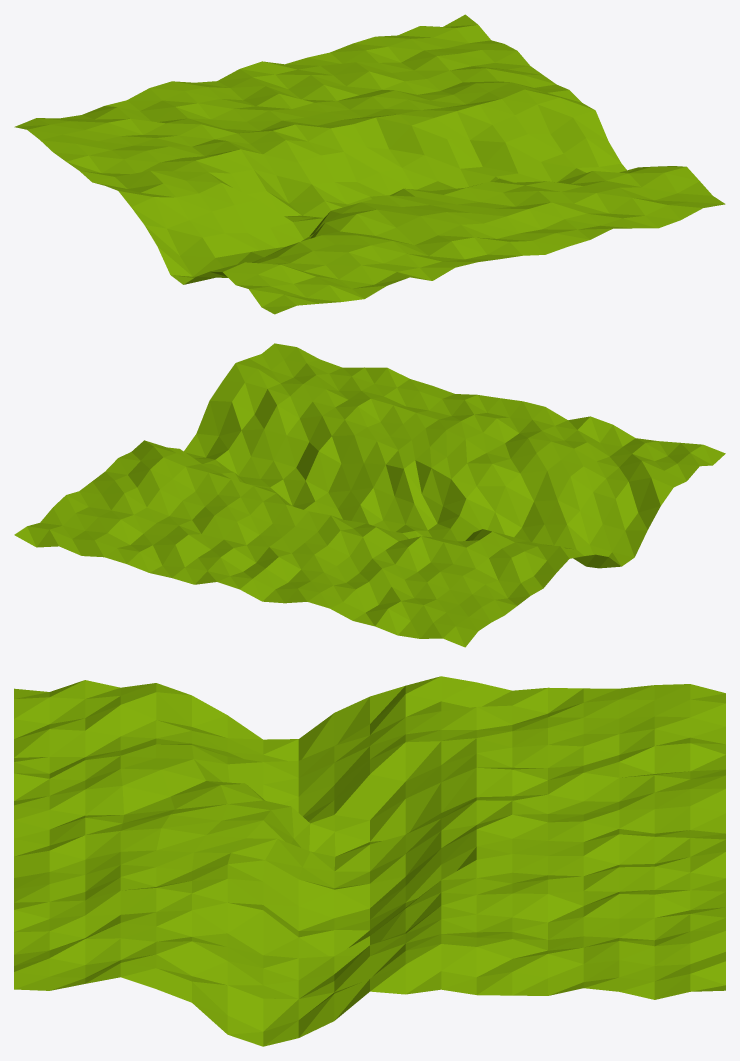
File: ENV2.fbx
3 renders of one model, top to bottom at view 1: azimuth 30°, elevation 25°; view 2: azimuth 150°, elevation 25°; view 3: azimuth 270°, elevation 25°, orthographic. The views are drawn at different scales.
Parts seen in each view (by area): view 1: pPlane1; view 2: pPlane1; view 3: pPlane1.
Boxes of the visible parts, x1,y1,x2,y2 form: pPlane1: (14,14,725,314); pPlane1: (14,343,725,647); pPlane1: (14,676,725,1046).
Size of the model in its own units: 29036 by 3410 by 29036.
